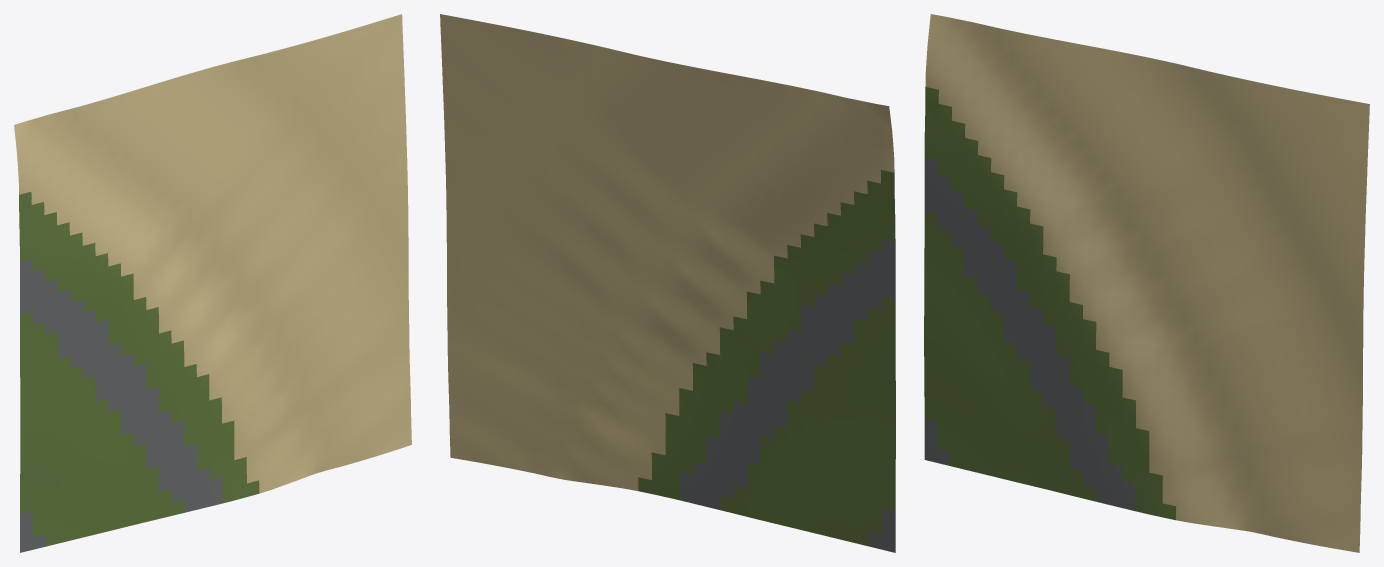
File: island_terrain_11_06.obj
3 renders of one model, left to right at view 1: azimuth 30°, elevation 25°; view 2: azimuth 150°, elevation 25°; view 3: azimuth 330°, elevation 25°, orthographic. The views are drawn at different scales.
Visible parts, largest first — view 1: island_terrain_11_06; view 2: island_terrain_11_06; view 3: island_terrain_11_06.
Boxes of the visible parts, x1=… form: island_terrain_11_06: x1=14, y1=14, x2=411, y2=552; island_terrain_11_06: x1=440, y1=14, x2=895, y2=552; island_terrain_11_06: x1=924, y1=14, x2=1369, y2=552.
Size of the model in its own units: 256 by 256 by 25.27.
